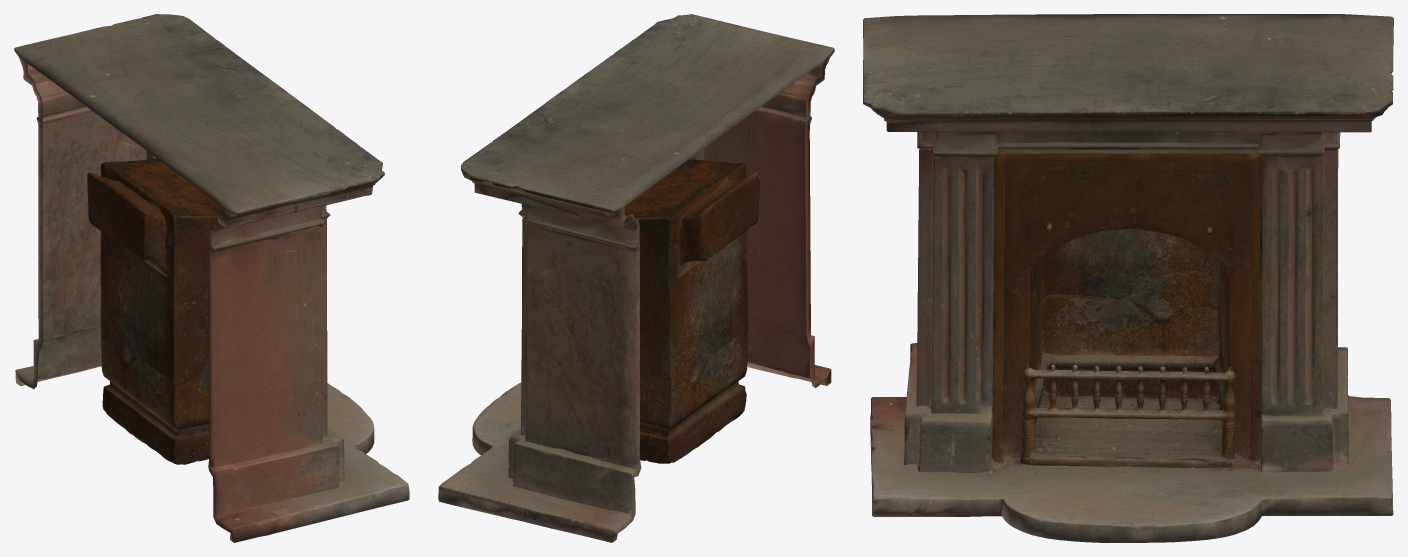
Rendered from fireplace-web.glb.
The picture shows the model from 3 angles, left to right: view 1: azimuth 30°, elevation 25°; view 2: azimuth 150°, elevation 25°; view 3: azimuth 270°, elevation 25°; orthographic projection. The views are drawn at different scales.
Visible parts, largest first — view 1: ujdjcjxga_LOD0_TIER2_000; view 2: ujdjcjxga_LOD0_TIER2_000; view 3: ujdjcjxga_LOD0_TIER2_000.
Part boxes in pixels (left/top/right/bottom): ujdjcjxga_LOD0_TIER2_000: left=14, top=14, right=409, bottom=542; ujdjcjxga_LOD0_TIER2_000: left=438, top=14, right=834, bottom=542; ujdjcjxga_LOD0_TIER2_000: left=863, top=14, right=1393, bottom=542.
Size of the model in its own units: 0.8239 by 1.15 by 1.38.
1 material, 1 textured.
